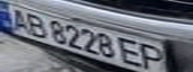2: (60, 22, 84, 50), (78, 27, 100, 56)
8: (42, 17, 69, 44), (97, 30, 118, 61)
A: (3, 6, 33, 33)
B: (21, 11, 51, 38)
E: (115, 36, 148, 69)
P: (136, 42, 169, 72)
